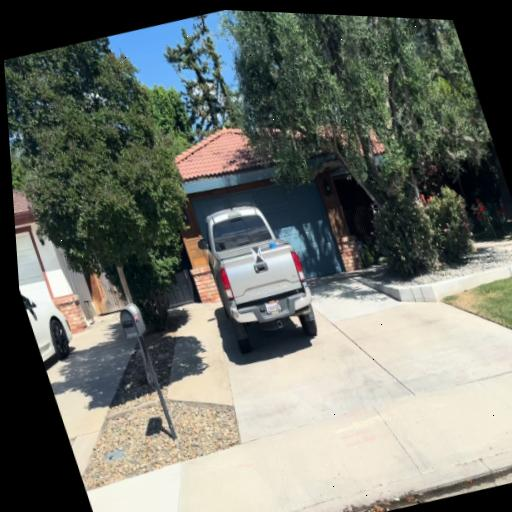target1: (251, 245, 264, 262)
